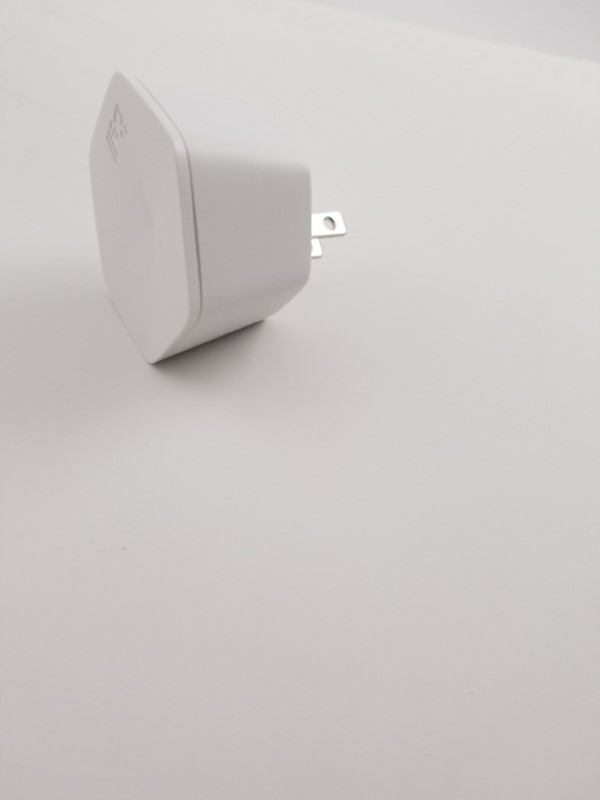pod: (85, 65, 355, 376)
